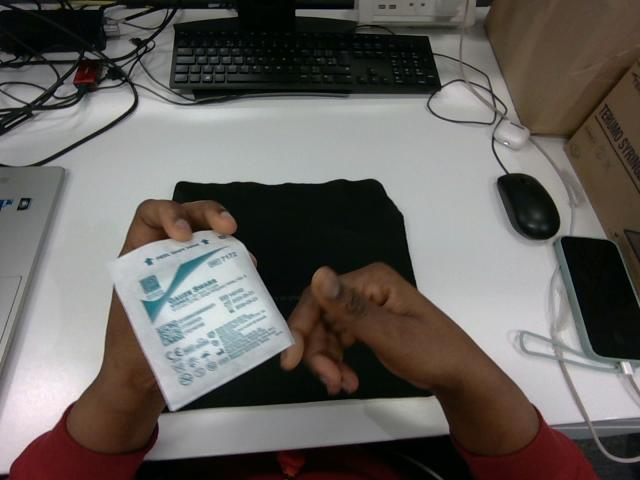gauze: (108, 231, 293, 410)
